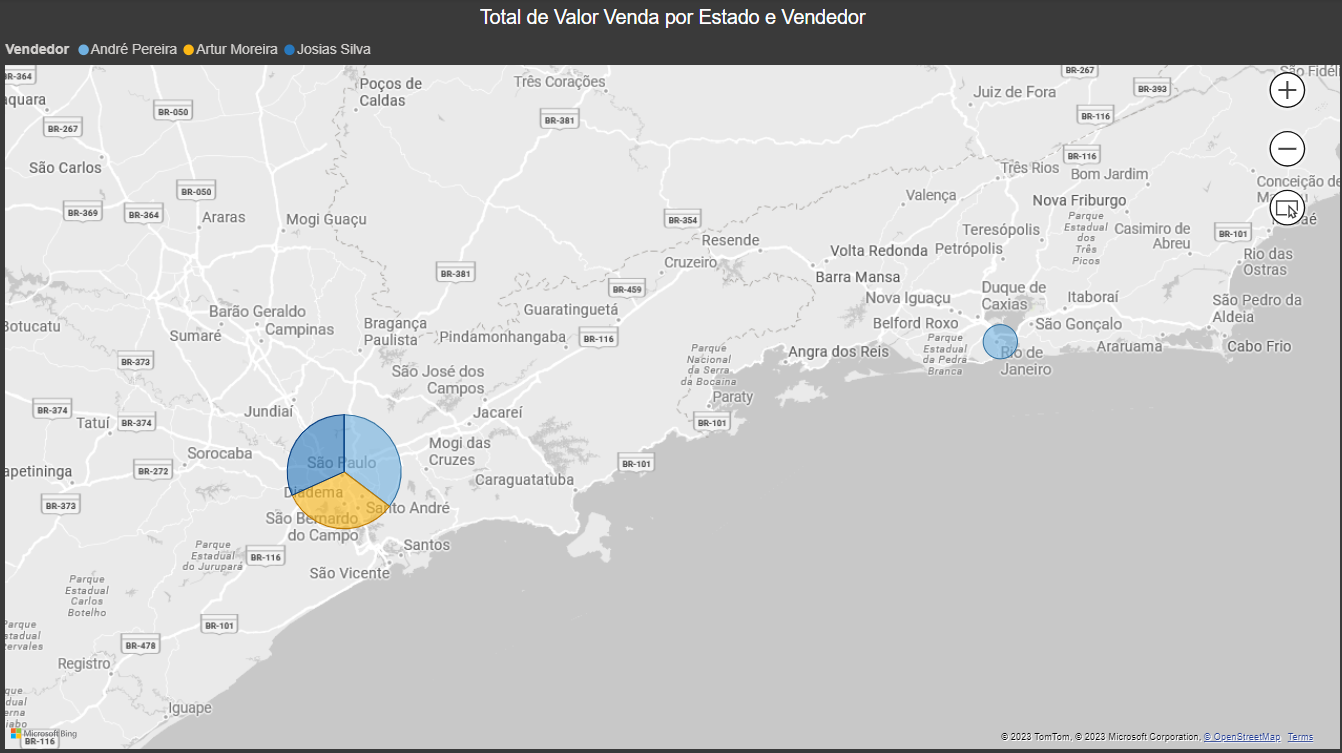

What the dashboard file says about the page in this screenshot:
{"tool":"powerbi","page":{"name":"Performance dos Vendedores por Região","canvas":[1280,720],"ordinal":4},"visuals":[{"type":"map","title":"Total de Valor Venda por Estado e Vendedor","fields":{"Category":["Vendas.Estado"],"Series":["Vendas.Vendedor"],"Size":["Sum(Vendas.ValorVenda)"]},"box":[0,8.3,1280.5,711.7],"z":0}]}

Visuals, with their boxes in screenshot pixels (x1, y1, x2, y2), scaled from the page's 1280x720 canvas onto the 1342x753 screenshot:
"Total de Valor Venda por Estado e Vendedor" map: bbox(0, 9, 1341, 752)
